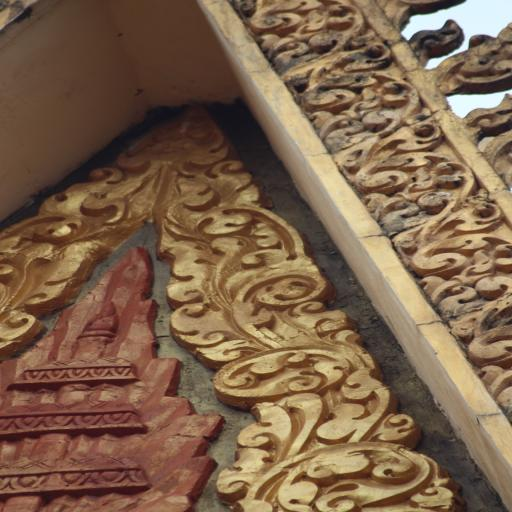la: (197, 348, 441, 512), (164, 233, 348, 351), (0, 239, 105, 343), (374, 186, 504, 267), (321, 110, 459, 186), (0, 173, 136, 241), (428, 268, 512, 367), (162, 166, 280, 236), (228, 0, 383, 53), (283, 52, 417, 110), (116, 110, 232, 170)
